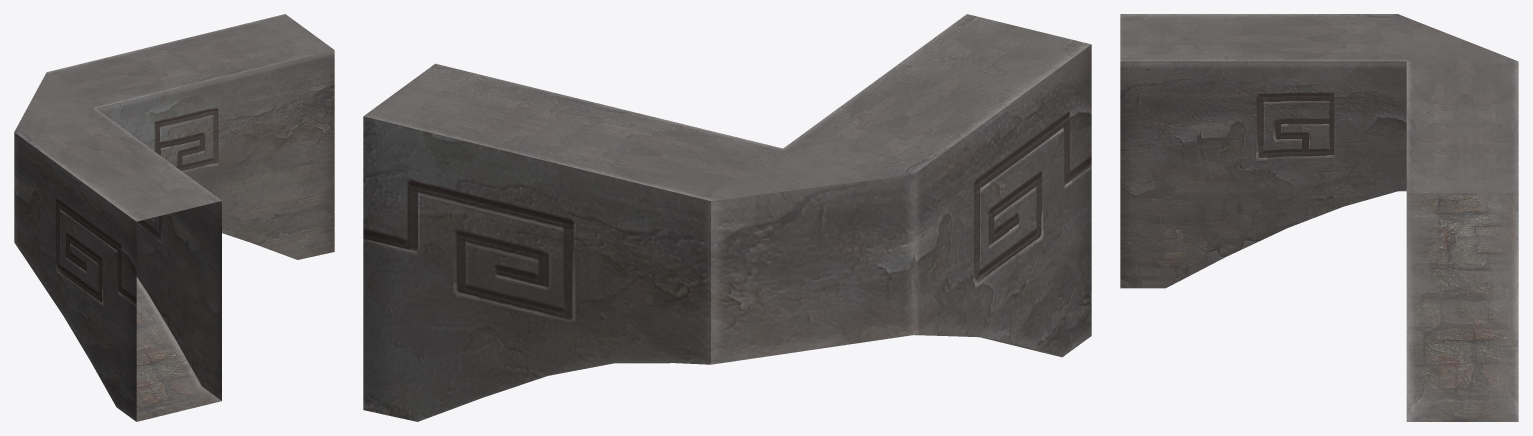
Rendered from Arch_Corner.fbx.
3 views of the same model, side by side, from view 1: azimuth 30°, elevation 25°; view 2: azimuth 150°, elevation 25°; view 3: azimuth 270°, elevation 25° (orthographic). The views are drawn at different scales.
Visible parts, largest first — view 1: pCube41; view 2: pCube41; view 3: pCube41.
Part boxes in pixels (bbox=[...]): pCube41: bbox=[14, 14, 334, 421]; pCube41: bbox=[363, 14, 1091, 421]; pCube41: bbox=[1120, 14, 1518, 421].
Bounding box in the file's own units: 190 × 113 × 178.
